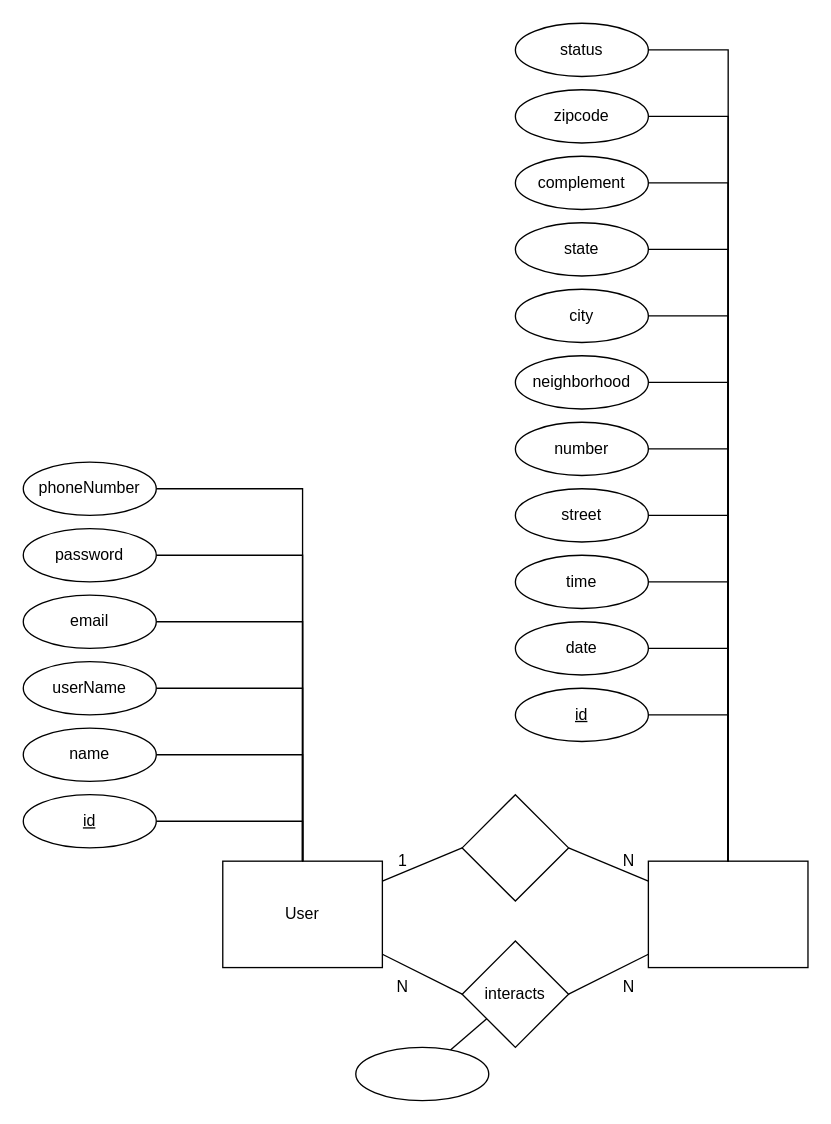
This 831x1124 diagram has some shape labels left out. The shapes that lost their labels are listed below. From the top down, each one's centre as x and y in pixels, then its label:
At pixel 515 847: "create".
At pixel 727 914: "Invite".
At pixel 421 1073: "type".
